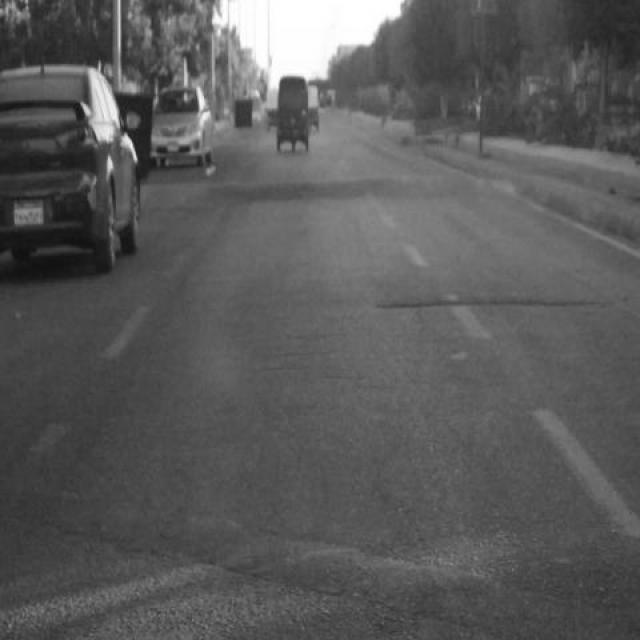Pothole: (377, 288, 607, 316)
Unmarked Bump: (138, 178, 514, 218)
